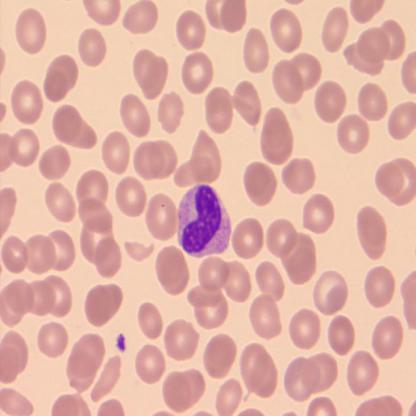Band Neutrophil: (174, 180, 233, 261)
